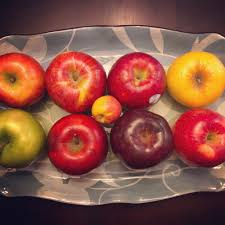apple: (48, 117, 112, 173), (48, 52, 108, 106), (115, 111, 173, 166), (167, 54, 223, 106), (177, 110, 224, 167), (112, 55, 165, 104), (2, 110, 44, 166), (1, 55, 46, 103)
